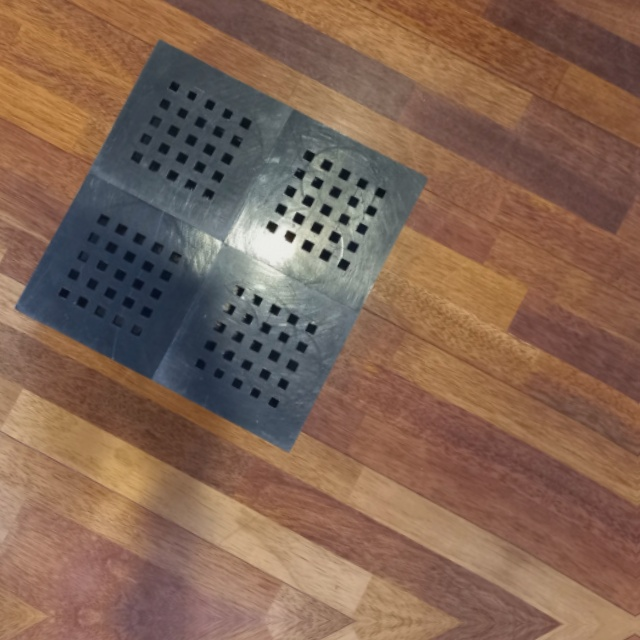pallet: (10, 26, 438, 466)
